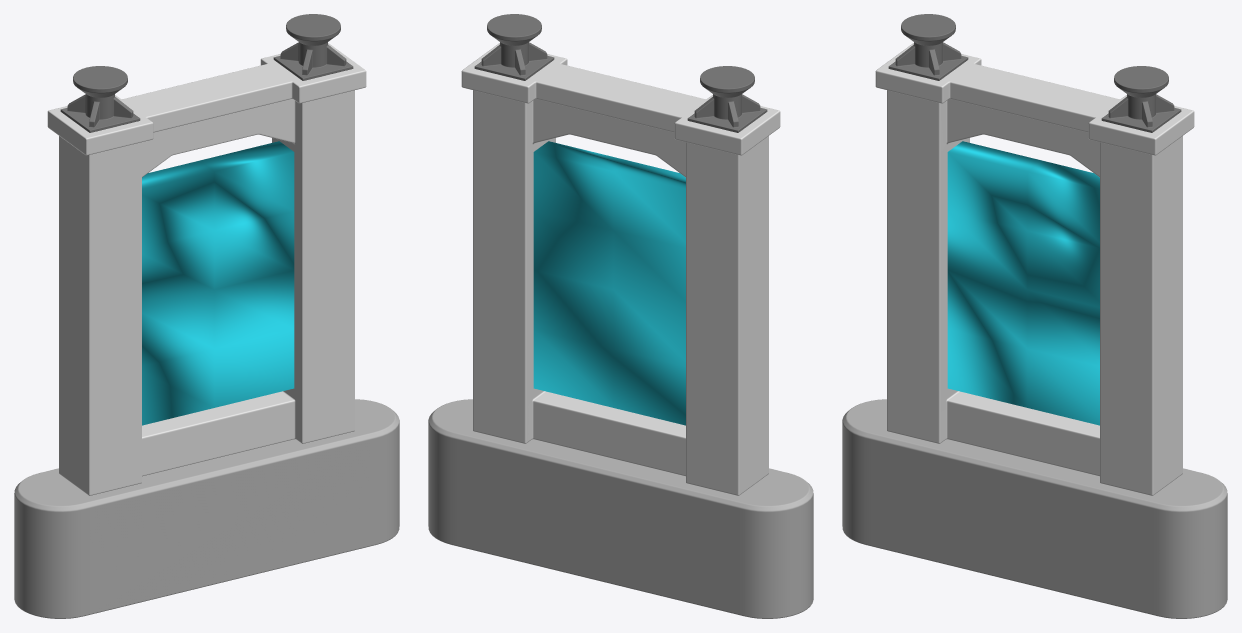
The model's file is bridge_support.fbx.
3 renders of one model, left to right at view 1: azimuth 30°, elevation 25°; view 2: azimuth 150°, elevation 25°; view 3: azimuth 330°, elevation 25°, orthographic.
Parts seen in each view (by area): view 1: support_001_mesh, base_001_mesh, glass, connector_002_mesh; view 2: support_001_mesh, base_001_mesh, glass, connector_002_mesh; view 3: support_001_mesh, base_001_mesh, glass, connector_002_mesh.
Boxes of the visible parts, x1=… form: support_001_mesh: x1=47, y1=43, x2=366, y2=495; base_001_mesh: x1=14, y1=399, x2=399, y2=618; glass: x1=142, y1=141, x2=294, y2=425; connector_002_mesh: x1=60, y1=14, x2=353, y2=132; support_001_mesh: x1=461, y1=43, x2=780, y2=495; base_001_mesh: x1=428, y1=399, x2=813, y2=618; glass: x1=533, y1=141, x2=685, y2=425; connector_002_mesh: x1=474, y1=14, x2=767, y2=132; support_001_mesh: x1=875, y1=43, x2=1194, y2=495; base_001_mesh: x1=842, y1=399, x2=1227, y2=618; glass: x1=947, y1=141, x2=1099, y2=425; connector_002_mesh: x1=888, y1=14, x2=1181, y2=132.
Size of the model in its own units: 1400 by 1840 by 300.
